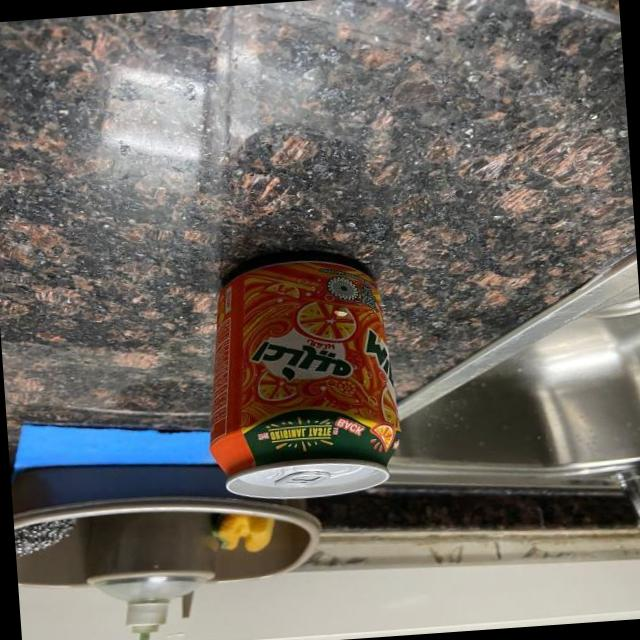Kaleng: (194, 246, 406, 506)
